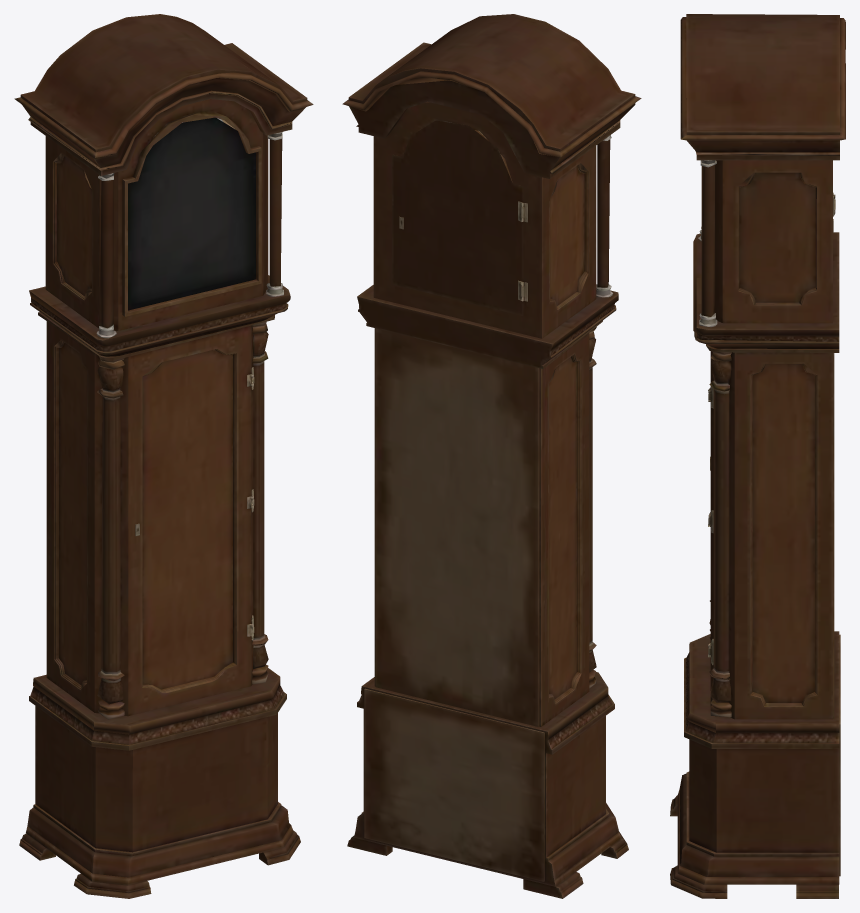
The model's file is clock.glb.
3 views of the same model, side by side, from view 1: azimuth 30°, elevation 25°; view 2: azimuth 150°, elevation 25°; view 3: azimuth 270°, elevation 25° (orthographic). The views are drawn at different scales.
Parts seen in each view (by area): view 1: vintage_grandfather_clock_01_Body; view 2: vintage_grandfather_clock_01_Body; view 3: vintage_grandfather_clock_01_Body.
Part boxes in pixels (left/top/right/bottom): vintage_grandfather_clock_01_Body: left=14, top=14, right=313, bottom=898; vintage_grandfather_clock_01_Body: left=342, top=14, right=641, bottom=898; vintage_grandfather_clock_01_Body: left=670, top=14, right=845, bottom=898.
Bounding box in the file's own units: 0.6255 × 2.19 × 0.4265.
Materials: 2 (2 with a texture image).
